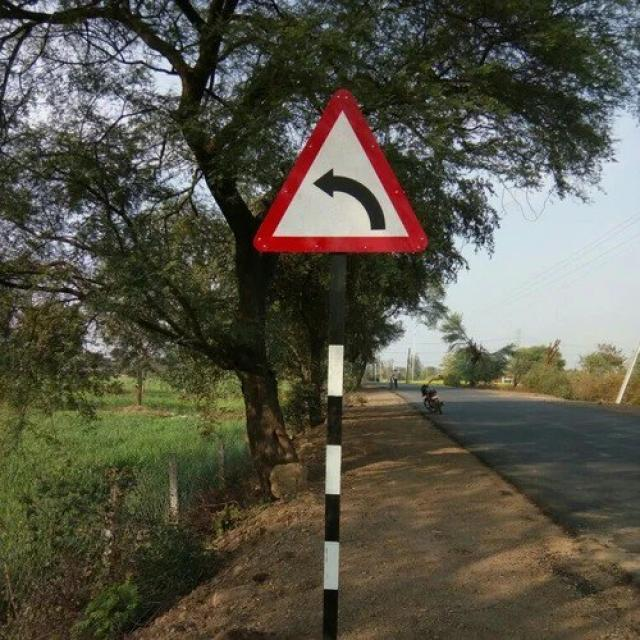left hand curve: (252, 89, 431, 253)
